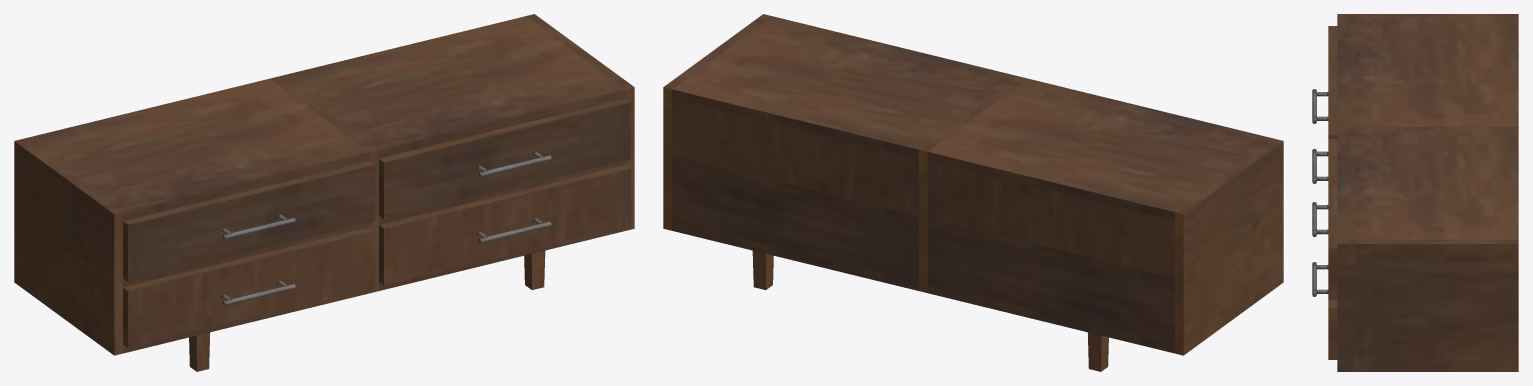
Rendered from vintage_tv_stand.glb.
3 views of the same model, side by side, from view 1: azimuth 30°, elevation 25°; view 2: azimuth 150°, elevation 25°; view 3: azimuth 270°, elevation 25° (orthographic). The views are drawn at different scales.
Visible parts, largest first — view 1: vintage_tv_stand, TV_Stand_Drawer_001_Helper, TV_Stand_Drawer_002_Helper, TV_Stand_Drawer_004_Helper, TV_Stand_Drawer_003_Helper; view 2: vintage_tv_stand; view 3: vintage_tv_stand, TV_Stand_Drawer_004_Helper, TV_Stand_Drawer_001_Helper, TV_Stand_Drawer_003_Helper, TV_Stand_Drawer_002_Helper.
Boxes of the visible parts, x1,y1,x2,y2 form: vintage_tv_stand: [14, 14, 634, 371]; TV_Stand_Drawer_001_Helper: [123, 161, 375, 281]; TV_Stand_Drawer_002_Helper: [123, 227, 375, 347]; TV_Stand_Drawer_004_Helper: [379, 98, 630, 219]; TV_Stand_Drawer_003_Helper: [379, 164, 630, 285]; vintage_tv_stand: [663, 14, 1283, 371]; vintage_tv_stand: [1337, 14, 1518, 371]; TV_Stand_Drawer_004_Helper: [1312, 139, 1337, 299]; TV_Stand_Drawer_001_Helper: [1312, 26, 1337, 138]; TV_Stand_Drawer_003_Helper: [1312, 262, 1337, 359]; TV_Stand_Drawer_002_Helper: [1312, 148, 1328, 183].
Bounding box in the file's own units: 1.5 × 0.5005 × 0.5687.
Materials: 2 (2 with a texture image).
